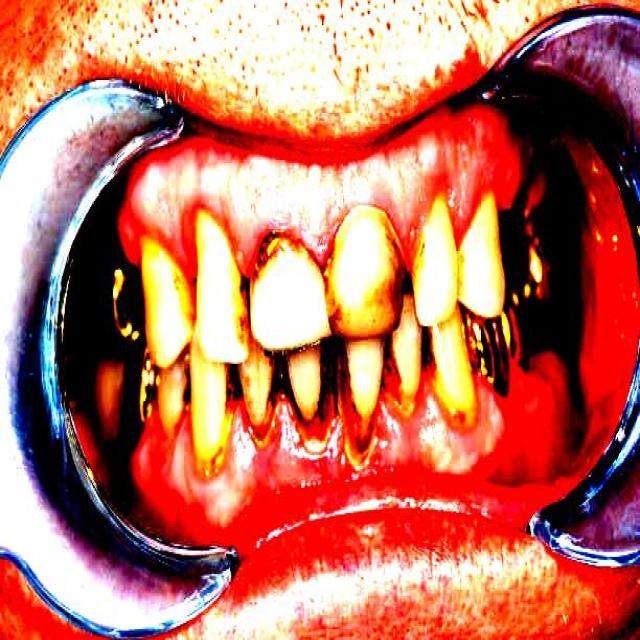caries: (251, 228, 284, 280), (419, 318, 446, 376), (447, 392, 476, 436)
